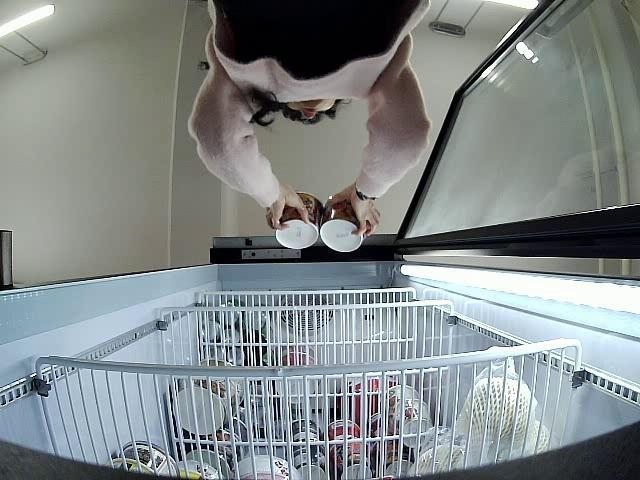05_nuguri_L: (318, 196, 372, 252), (273, 195, 325, 249)
